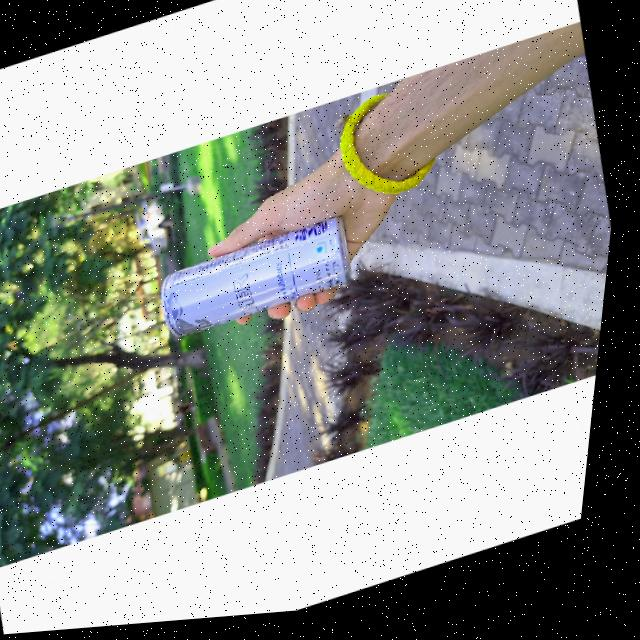Redbull Summer Edition: (149, 202, 375, 354)
